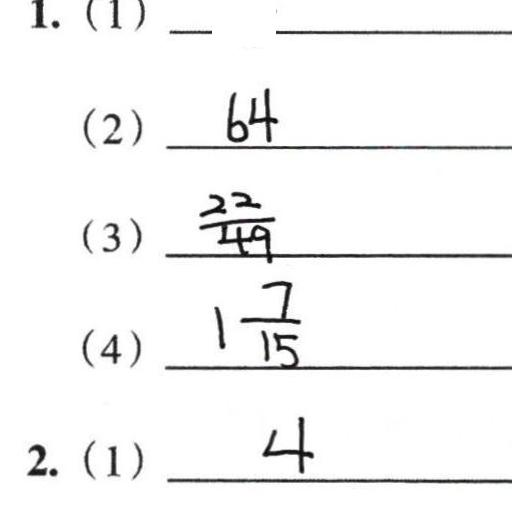ans: (210, 275, 305, 369), (200, 189, 276, 264), (219, 82, 278, 144), (256, 412, 315, 474)
